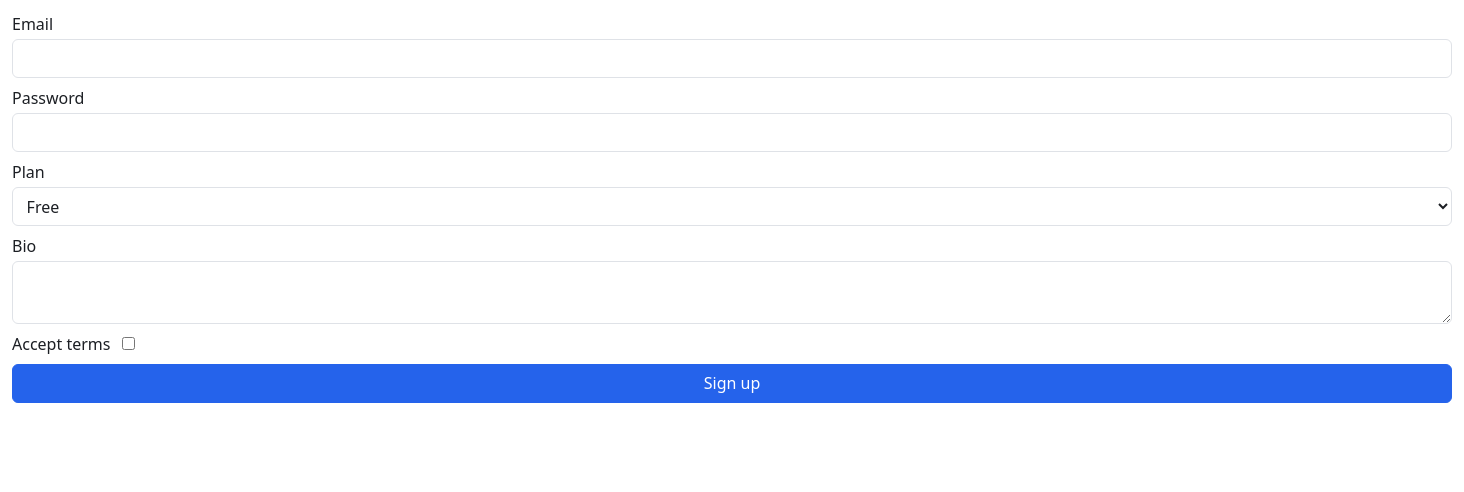
Test case: SignupForm › shows errors and does not submit invalid data
Click the button "Sign up": (732, 383) [12, 364, 1452, 403]
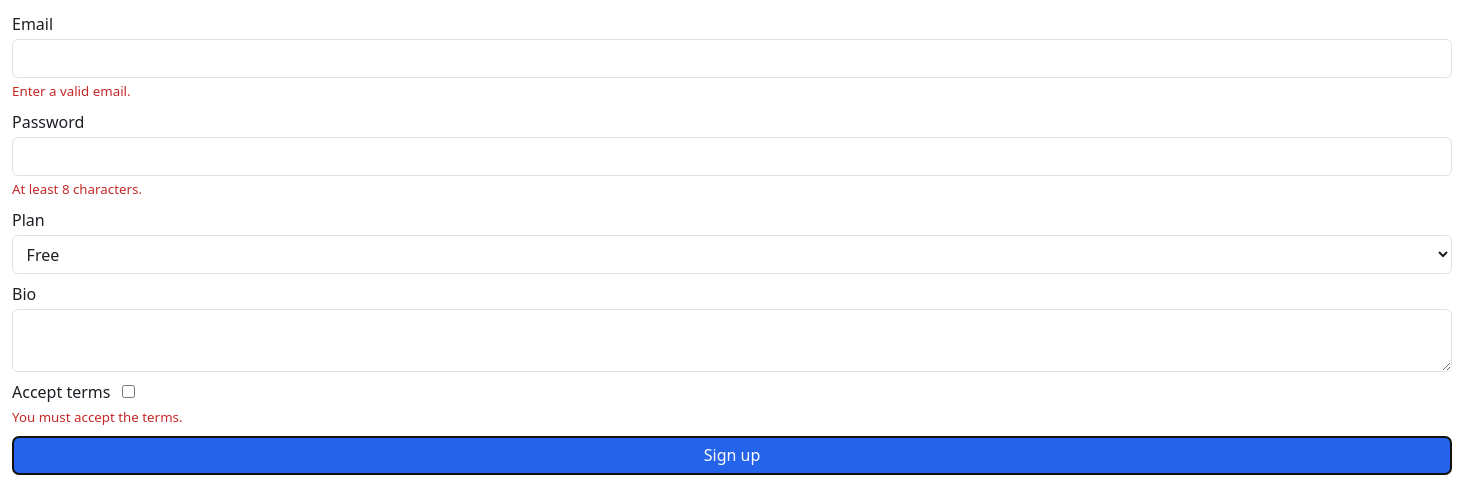
Check: the number of messages is 3, box [12, 82, 131, 100]; [12, 180, 142, 198]; [12, 408, 182, 426]
